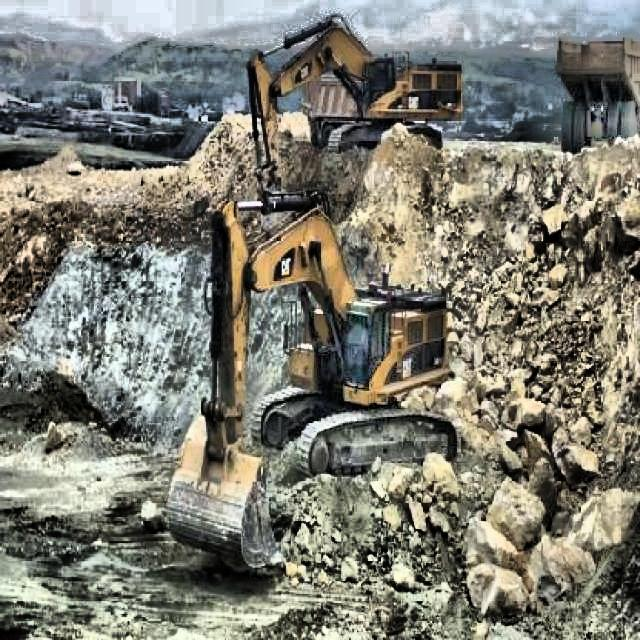dump_truck: (544, 30, 640, 155), (303, 78, 345, 146)
excavator: (152, 185, 462, 588), (242, 14, 464, 191)
